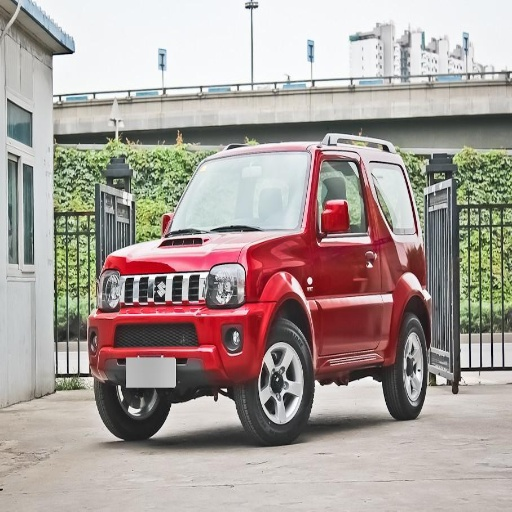front_bumper: (90, 270, 272, 387)
front_glass: (168, 152, 311, 235)
front_left_door: (315, 154, 376, 354)
trunk: (356, 239, 440, 353)
